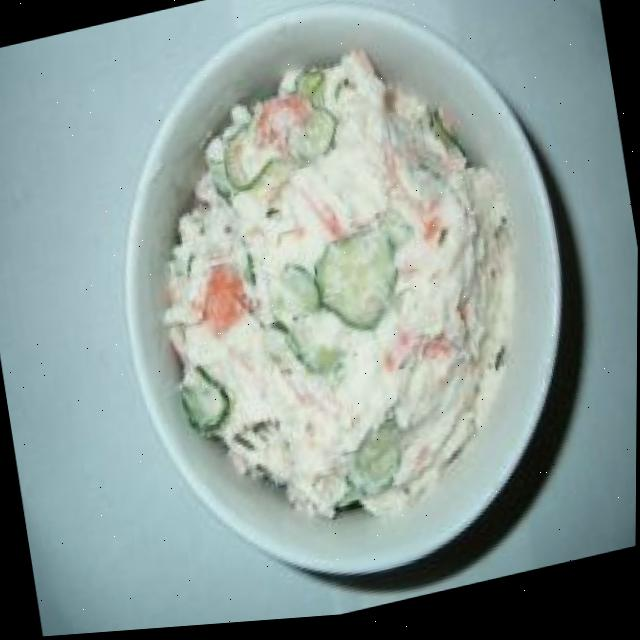蔬菜料理: (78, 0, 607, 627)
